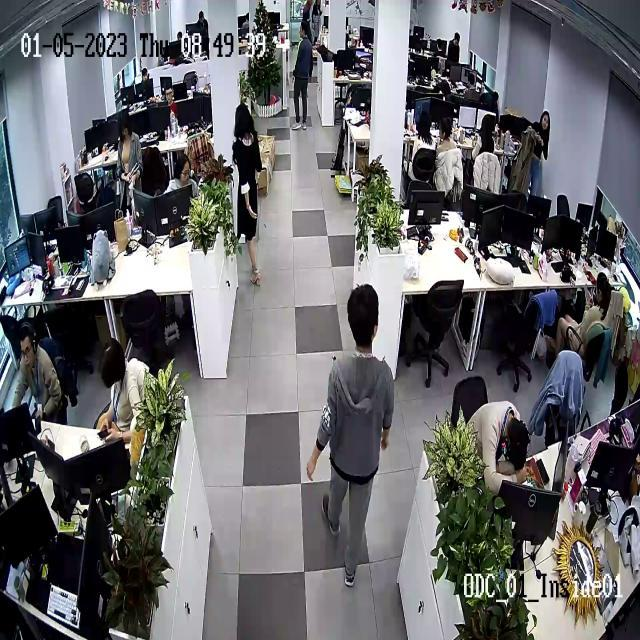person: (307, 285, 395, 587), (94, 338, 150, 451), (9, 321, 65, 424), (232, 103, 263, 287), (549, 270, 612, 357), (470, 401, 531, 488), (292, 21, 316, 129), (521, 110, 551, 196), (117, 122, 143, 215), (471, 116, 501, 172), (168, 156, 197, 207), (435, 119, 460, 171), (415, 106, 435, 169), (161, 86, 180, 130), (446, 30, 461, 68)
